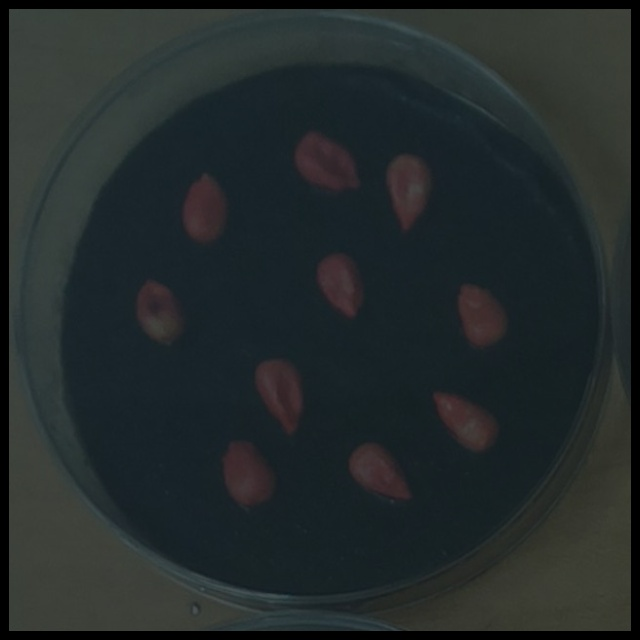Zea mays: (286, 122, 369, 198), (247, 350, 312, 442), (424, 385, 506, 457), (341, 433, 419, 508), (379, 145, 441, 238), (216, 431, 284, 512), (450, 276, 516, 354), (175, 164, 235, 249), (309, 244, 372, 324), (128, 271, 193, 348)
